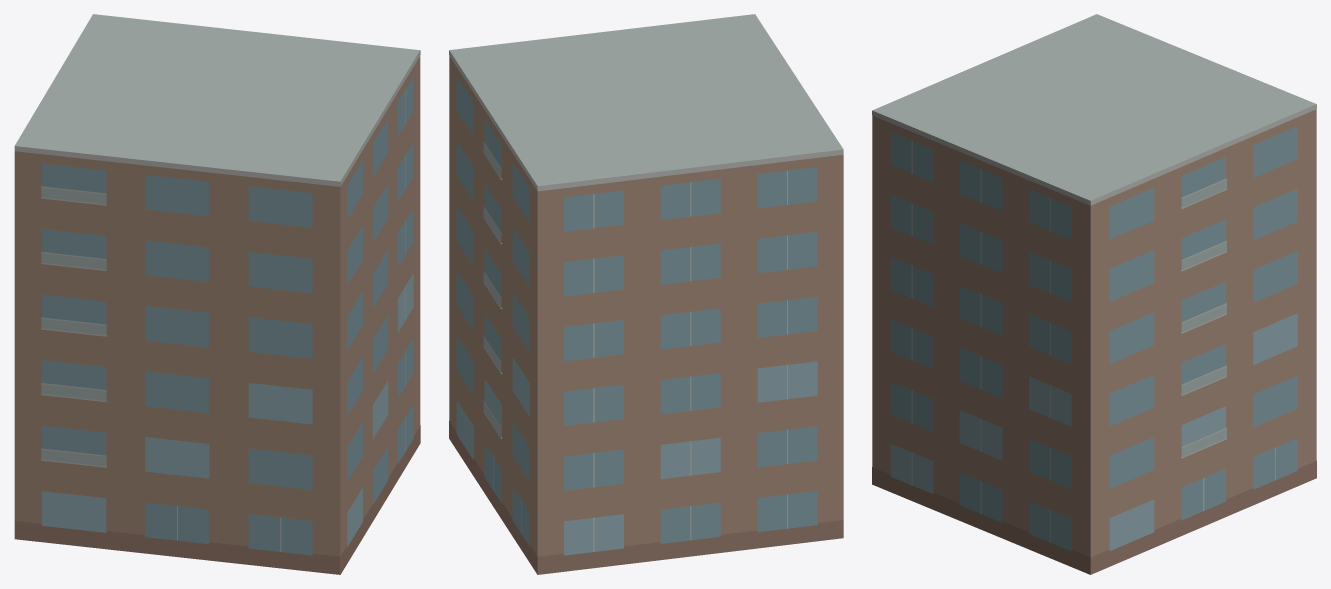
Rendered from survey-upis-32700335.glb.
3 views of the same model, side by side, from view 1: azimuth 30°, elevation 25°; view 2: azimuth 150°, elevation 25°; view 3: azimuth 270°, elevation 25° (orthographic). The views are drawn at different scales.
Parts seen in each view (by area): view 1: survey-upis-32700335.tmp; view 2: survey-upis-32700335.tmp; view 3: survey-upis-32700335.tmp.
Part boxes in pixels (box(x1,y1,x2,y2)): survey-upis-32700335.tmp: box(14, 14, 420, 574); survey-upis-32700335.tmp: box(449, 14, 843, 574); survey-upis-32700335.tmp: box(872, 14, 1316, 574).
Size of the model in its own units: 19.83 by 18.5 by 19.94.
